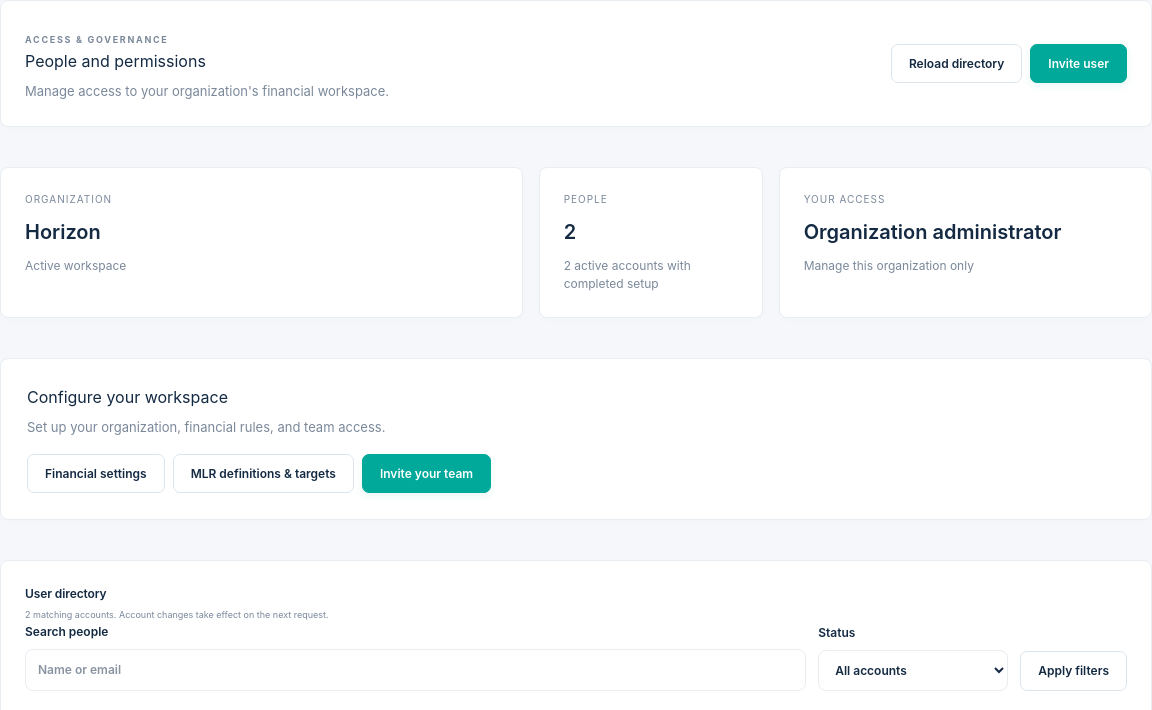
Test: Administration workspace › shows and focuses a reload error without reporting success
Click the button "Reload directory" at (957, 63), box [891, 44, 1022, 83]
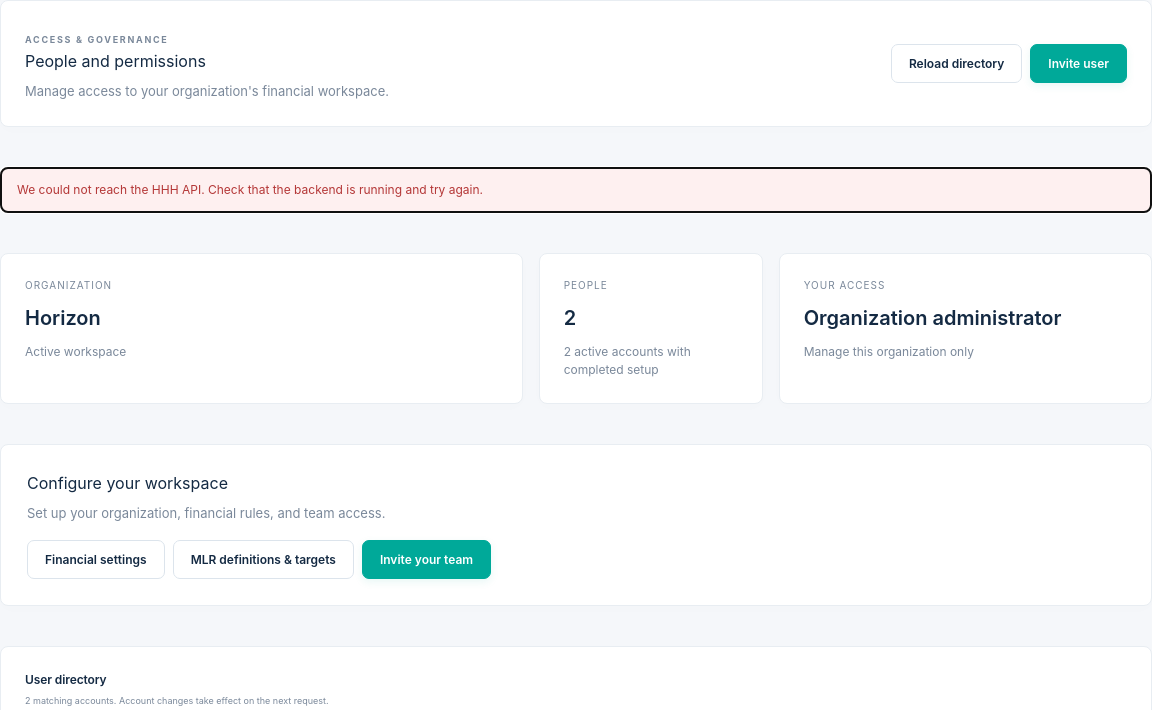
Result: the text "HHH API" is shown at [17, 182, 483, 197]
